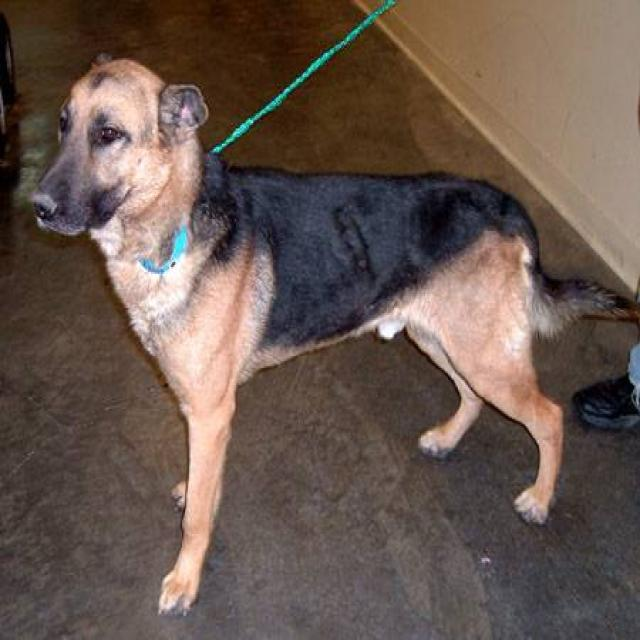dog: (30, 50, 638, 618)
